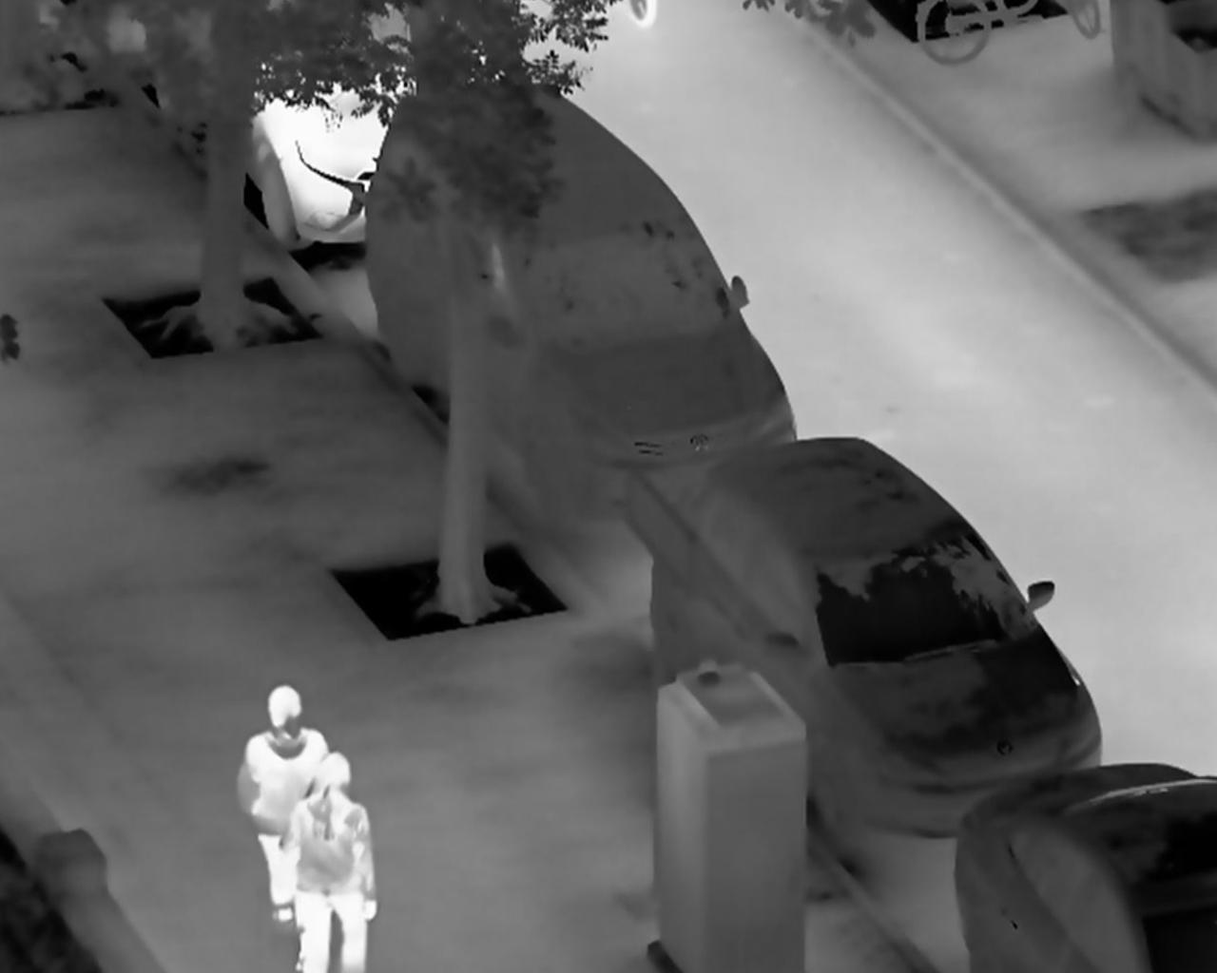person: (276, 750, 379, 973), (238, 683, 333, 924)
